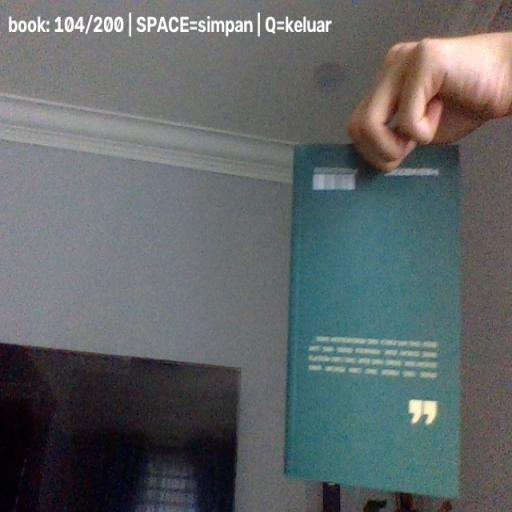Book: (284, 143, 462, 500)
